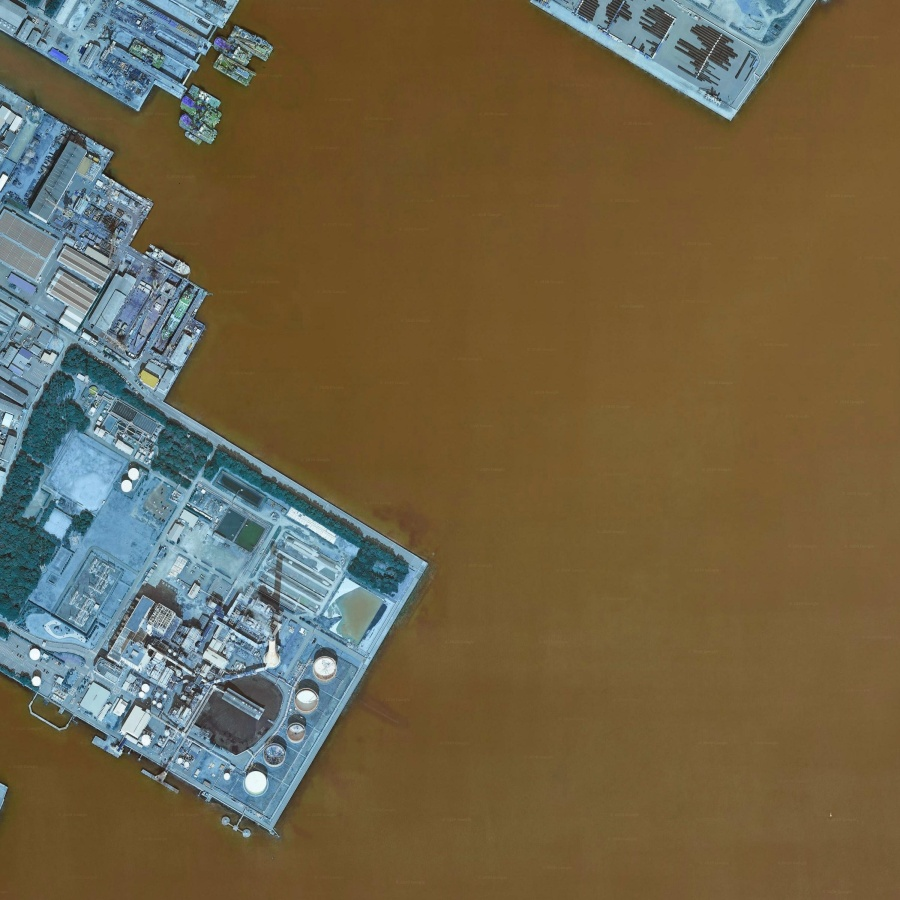PowerPlant: (23, 508, 392, 828)
